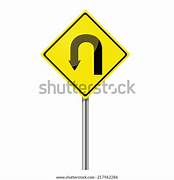back: (40, 8, 129, 98)
